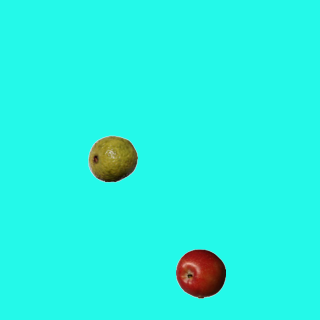Apple Braeburn: (175, 248, 225, 298)
Guava: (87, 133, 137, 183)
